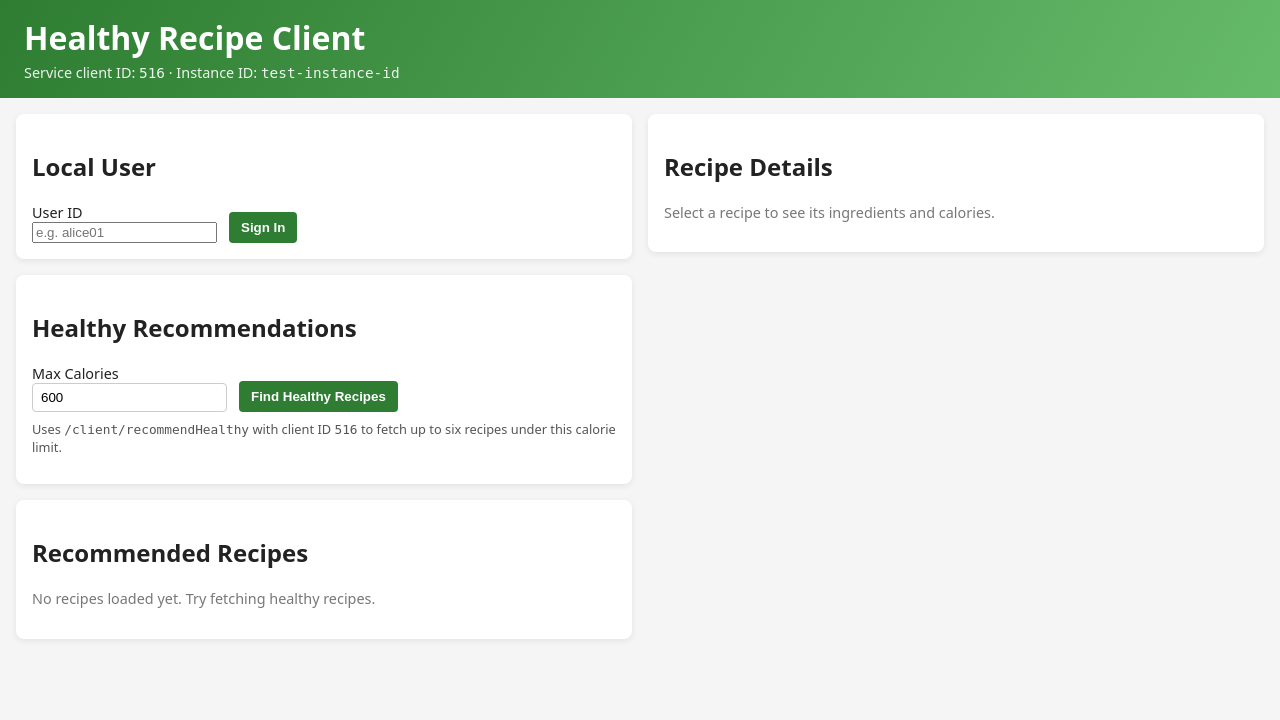
App component › liking a recipe updates the button state to Liked
//  Sign in
Type "charlie01" into the field labelled "User ID". click: (124, 232)
box: [32,222,217,243]
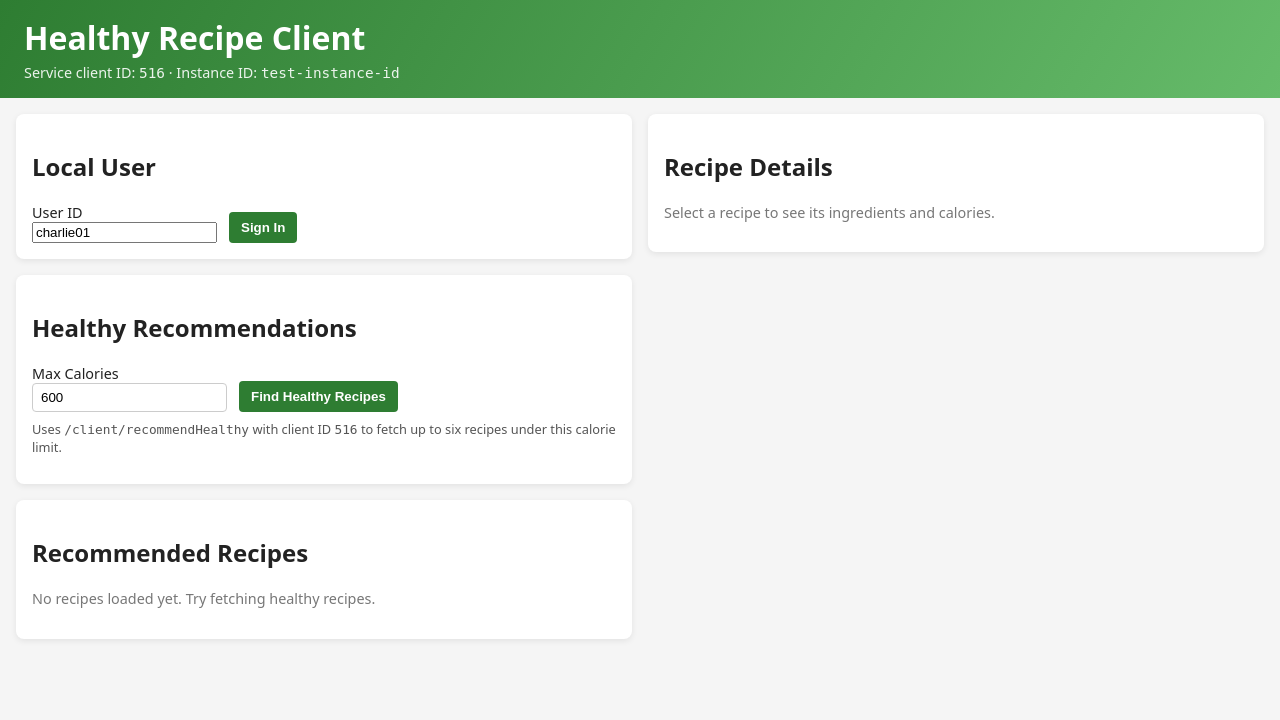
Click the button "Sign In". click: (263, 227)
box: [229,212,297,243]
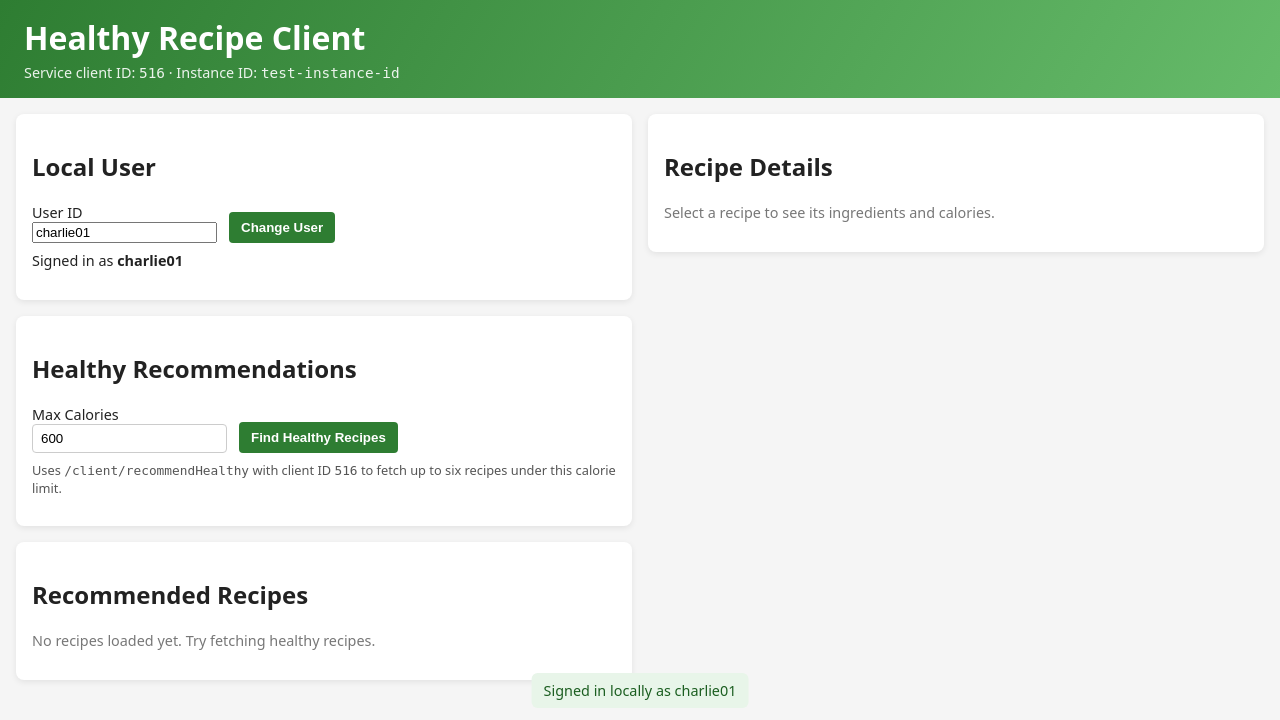
expect the text "Signed in as charlie01" is shown: met, box [32,251,183,270]
Click the button "Find Healthy Recipes". click: (318, 438)
box: [239,422,398,453]
(page scrolled)
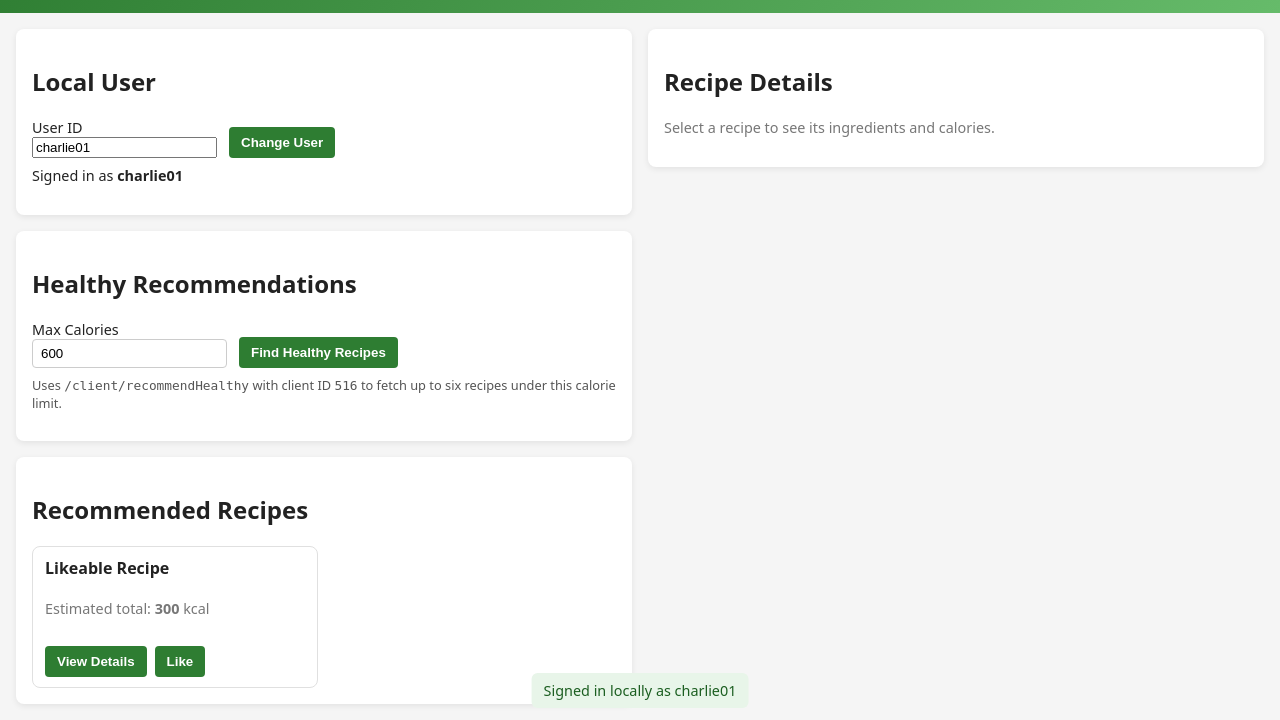
expect the heading "Likeable Recipe" is shown: met, box [45,557,169,579]
// Click Like
Click the button "Like". click: (180, 662)
box: [154,646,205,677]
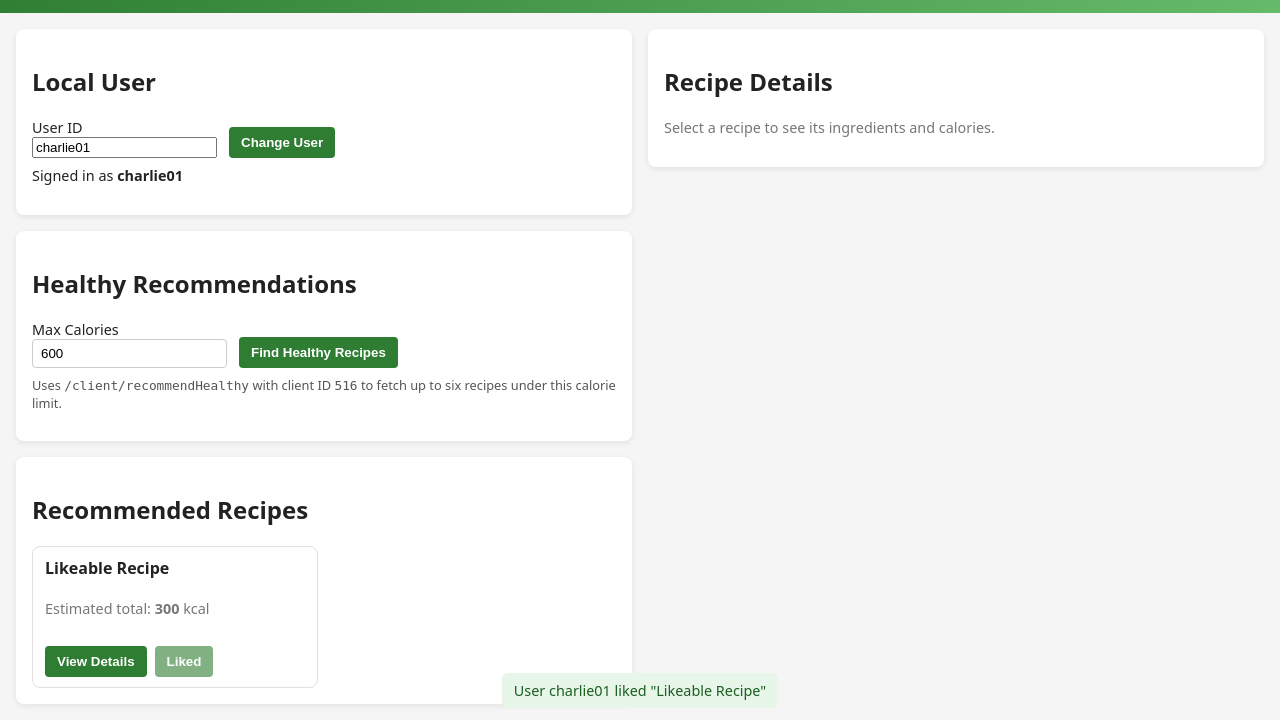
expect the button "Liked" is disabled: met, box [154,646,213,677]
